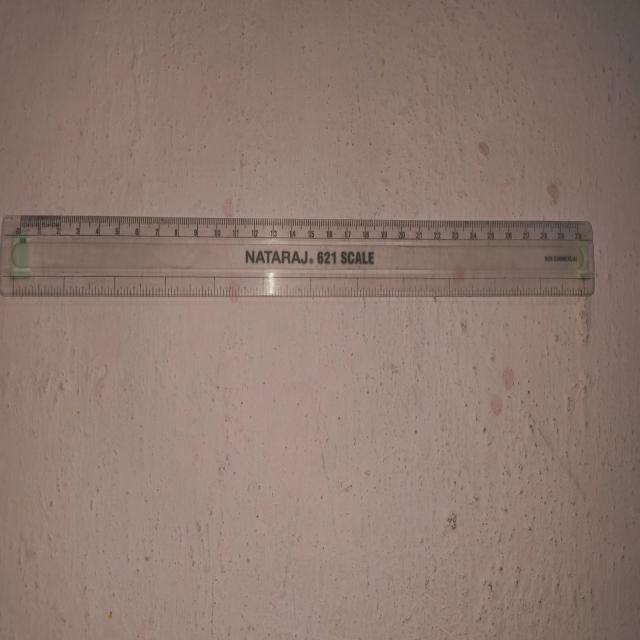scale: (0, 217, 601, 296)
